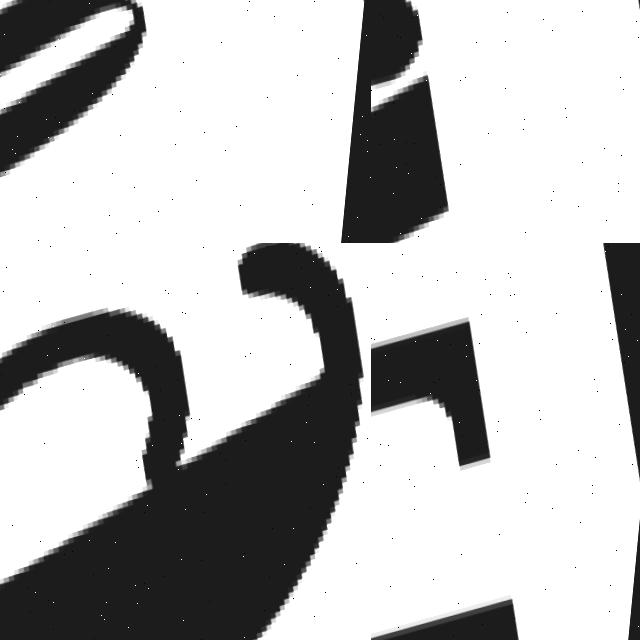6: (0, 243, 371, 640)
D: (0, 0, 352, 243)
U: (371, 252, 592, 640)
W: (371, 0, 550, 243)
